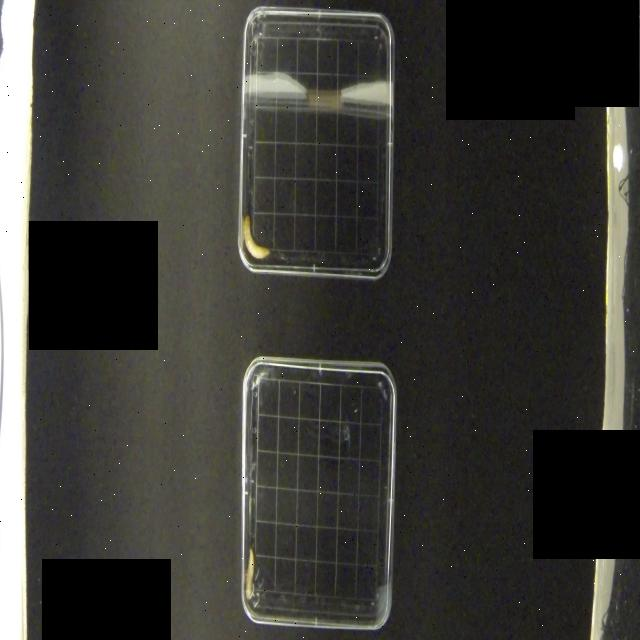larva: (245, 215, 268, 262), (247, 546, 255, 600)
